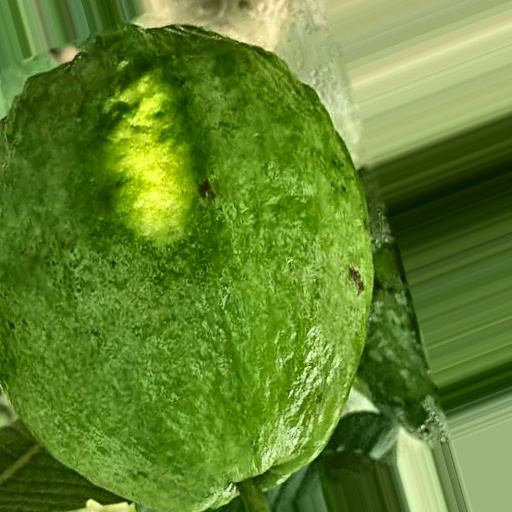guava: (51, 110, 512, 442)
